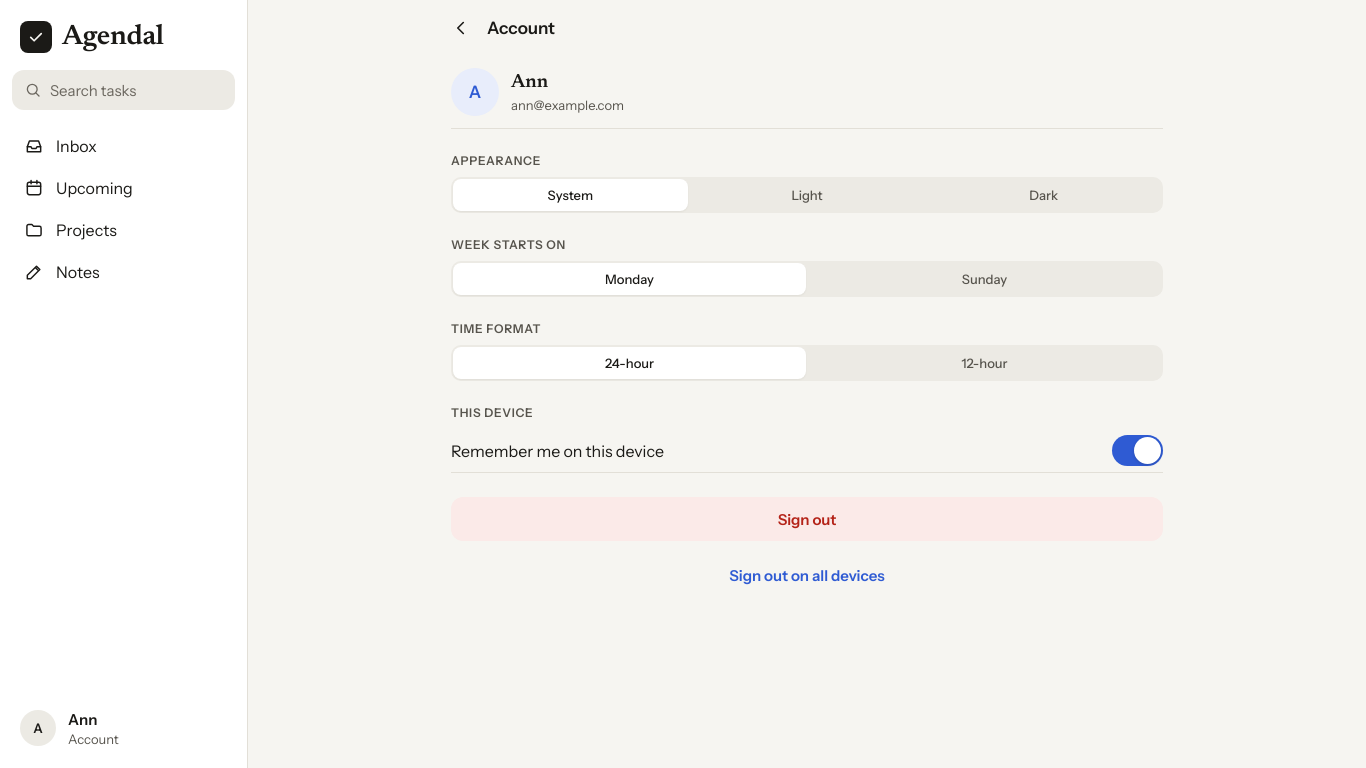
it: Account settings (AP-3, AP-5) › puts the old value back and says so when the save is refused
The width and height of the screenshot is (1366, 768).
expect the text "ann@example.com" is shown: met, box [511,96,624,114]
What coordinates should you click on to do the following:
click the radio button labelled "Dark"
I would click on:
 (1044, 195)
Its box is [926,179,1161,211].
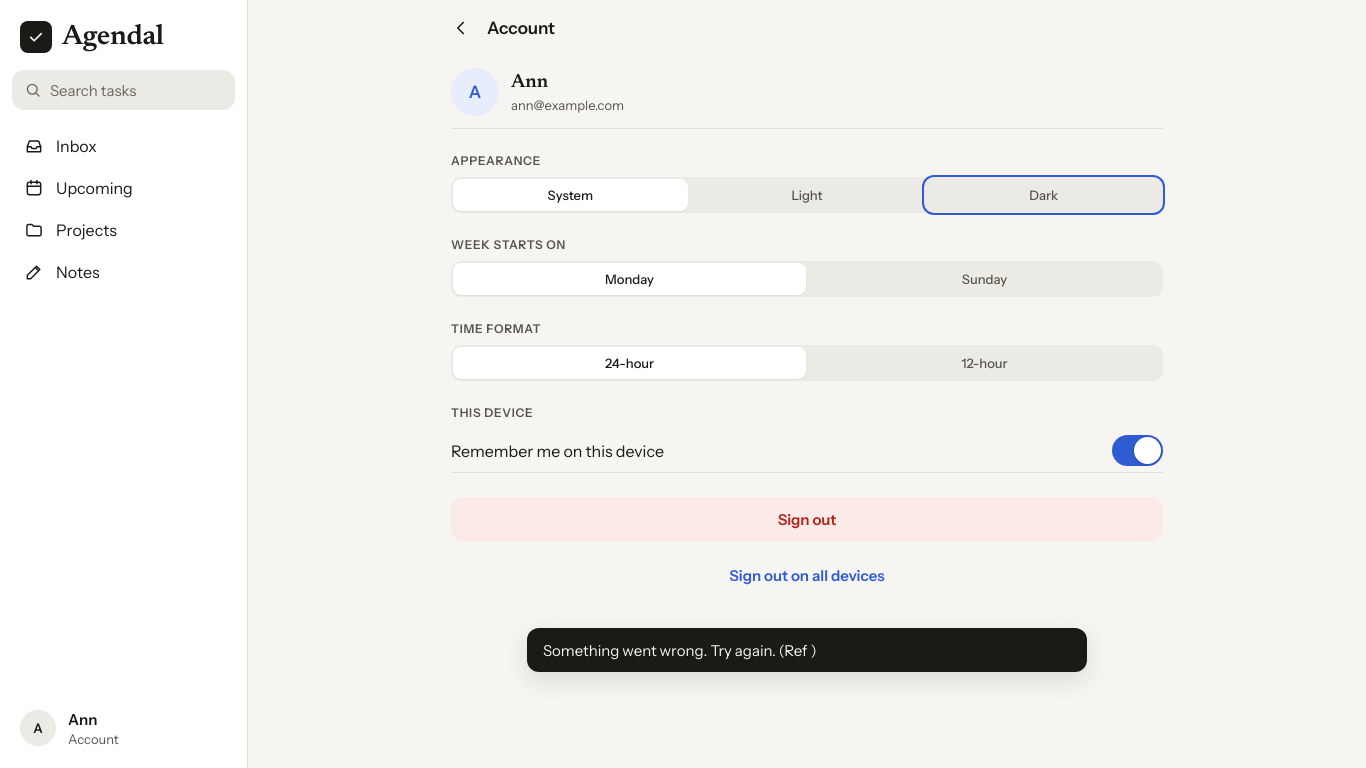
expect the text "Something went wrong. Try again. (Ref )" is shown: met, box [543,640,816,660]
